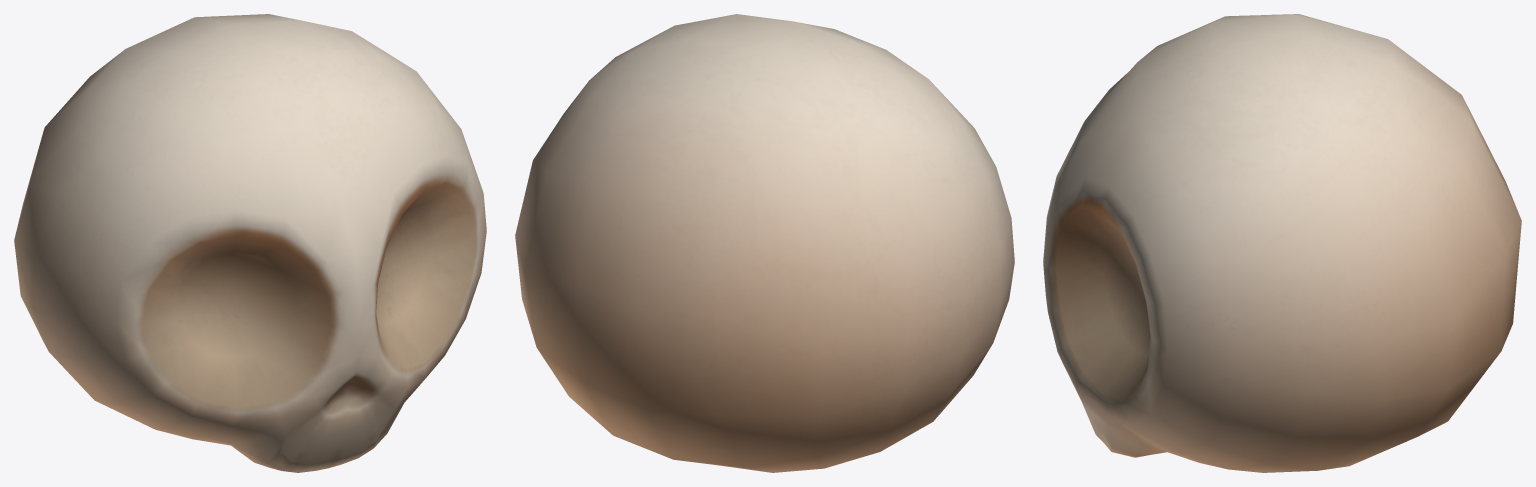
Rendered from Skull.FBX.
The picture shows the model from 3 angles, left to right: view 1: azimuth 30°, elevation 25°; view 2: azimuth 150°, elevation 25°; view 3: azimuth 270°, elevation 25°; orthographic projection. The views are drawn at different scales.
Visible parts, largest first — view 1: Skull; view 2: Skull; view 3: Skull.
Part boxes in pixels (x1,y1,x2,y2): Skull: [14, 14, 486, 472]; Skull: [515, 14, 1014, 472]; Skull: [1043, 14, 1521, 472].
Size of the model in its own units: 82.88 by 73.43 by 79.28.
